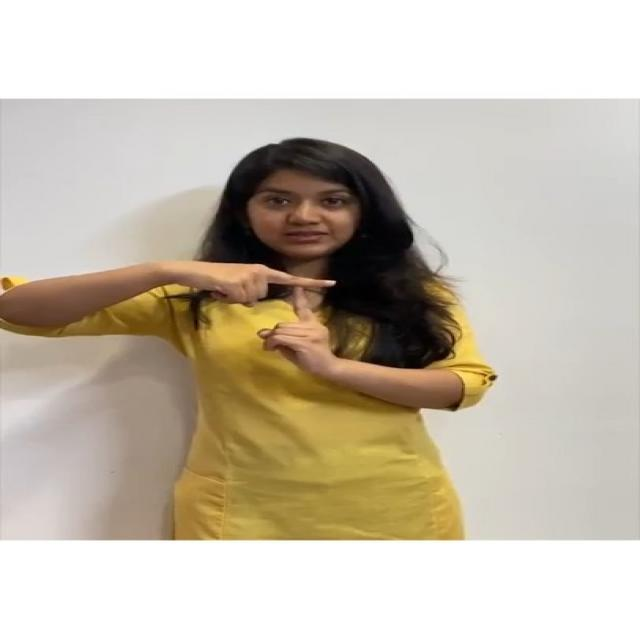T: (163, 252, 377, 382)
